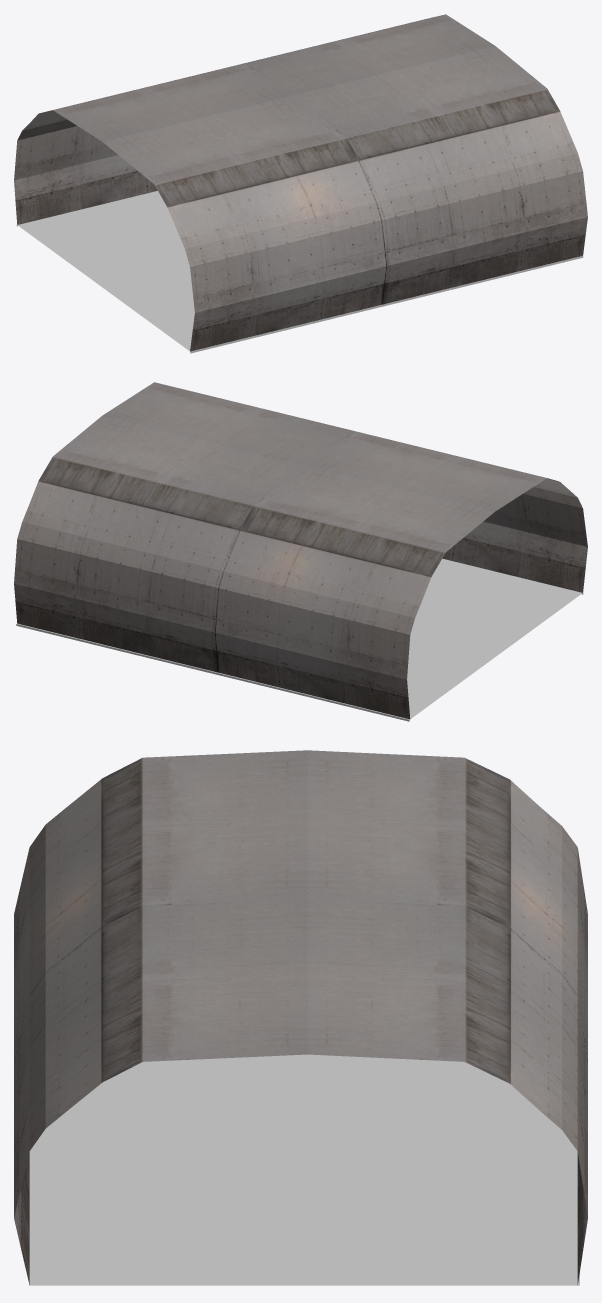
The model's file is underground_line_small.fbx.
3 renders of one model, top to bottom at view 1: azimuth 30°, elevation 25°; view 2: azimuth 150°, elevation 25°; view 3: azimuth 270°, elevation 25°, orthographic. The views are drawn at different scales.
Parts seen in each view (by area): view 1: roads.000; view 2: roads.000; view 3: roads.000.
Boxes of the visible parts, x1=… form: roads.000: x1=14, y1=14, x2=587, y2=353; roads.000: x1=14, y1=382, x2=587, y2=721; roads.000: x1=14, y1=750, x2=587, y2=1285.
Bounding box in the file's own units: 5491 × 1968 × 4375.
